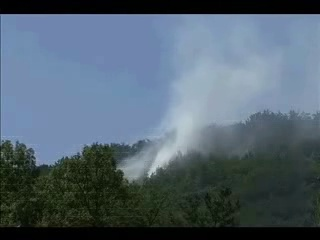smoke: (183, 14, 291, 155), (108, 99, 194, 184)
